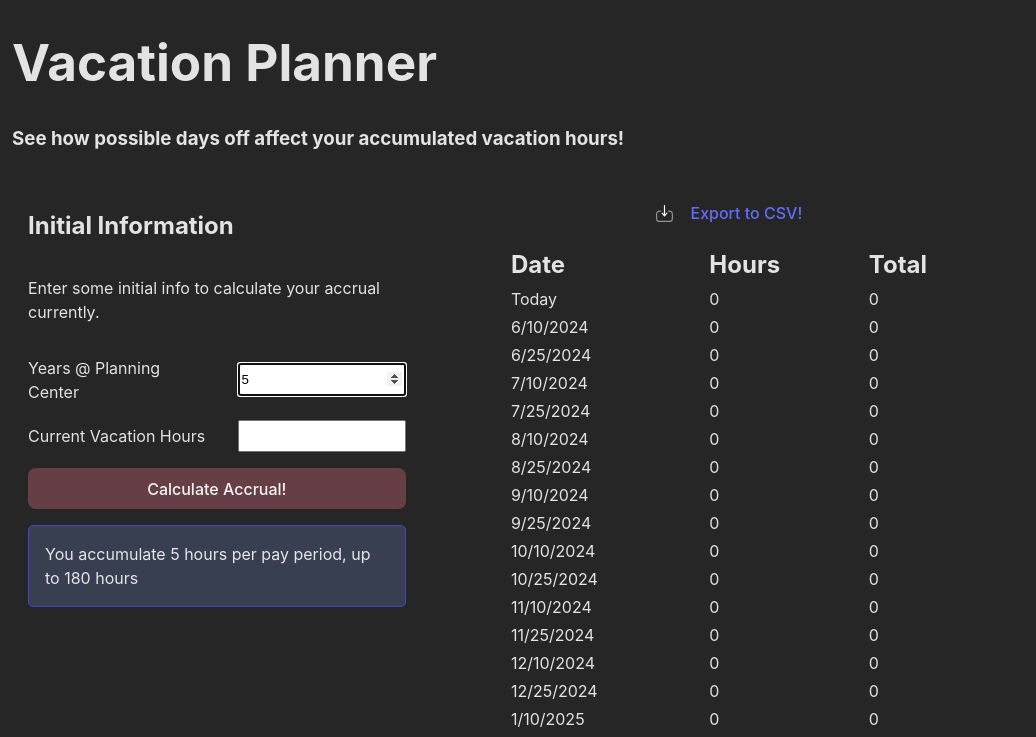
renders correct accumulation and max numbers › populates the table
Type "5" into the number field next to "Current Vacation Hours" at (322, 436), box top-left (238, 420), bottom-right (406, 452)
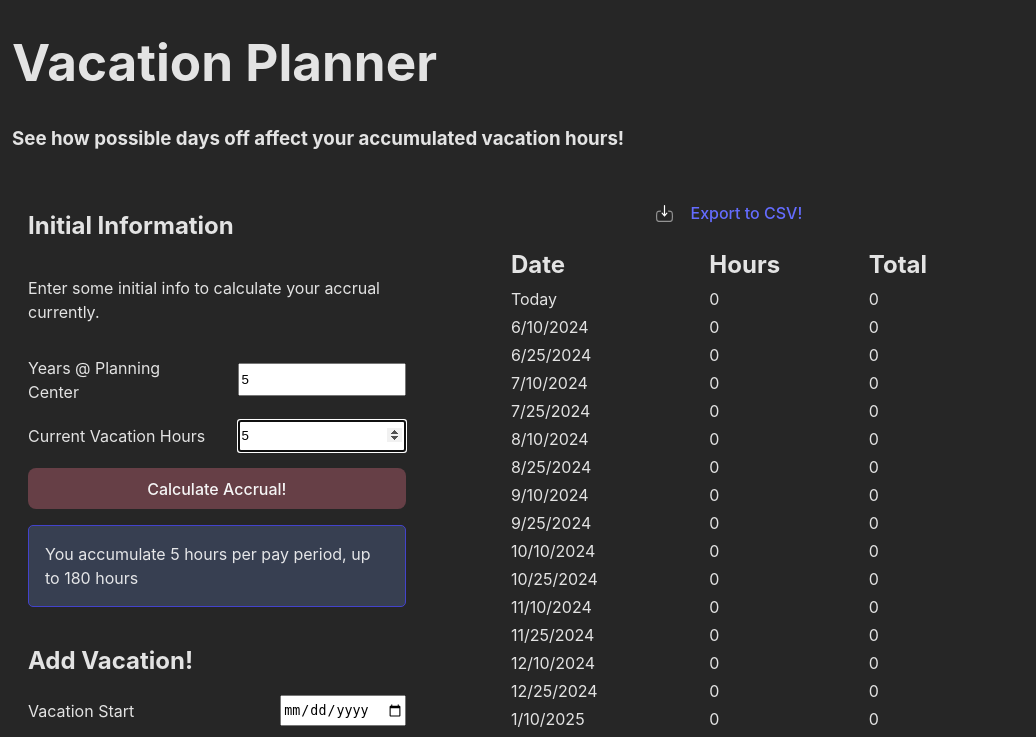
Now the heading "Add Vacation!" is shown, box top-left (28, 646), bottom-right (193, 675)
Click the button "Calculate Accrual!" at (217, 489), box top-left (28, 468), bottom-right (406, 510)
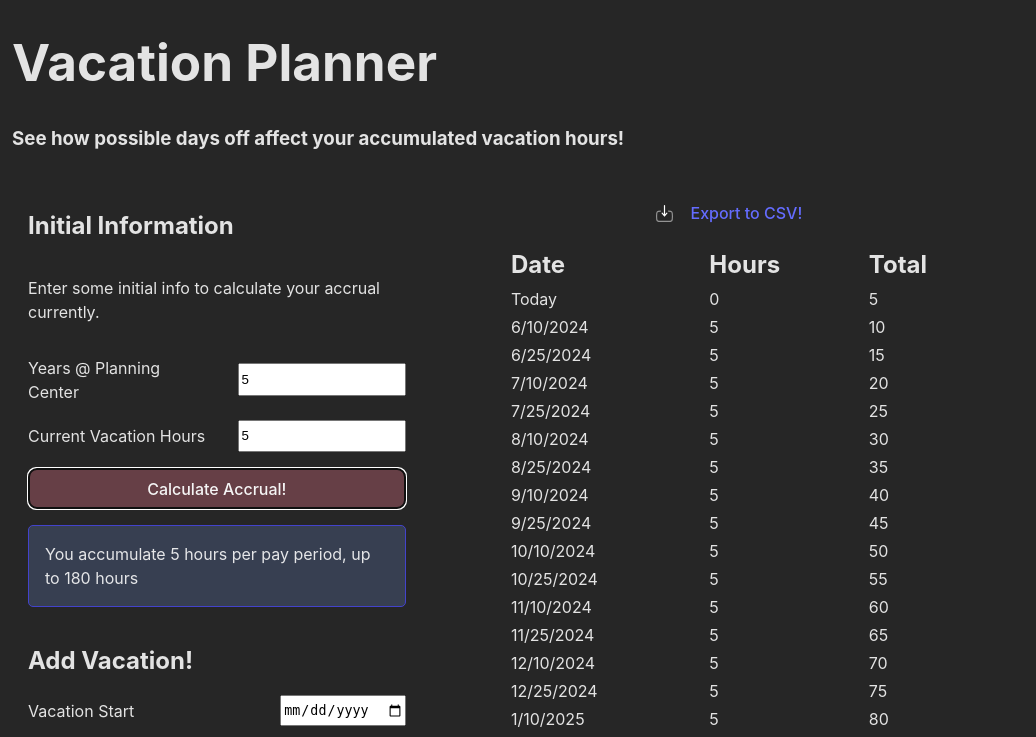
Now the text "10" is shown, box top-left (869, 317), bottom-right (885, 337)
Now the text "15" is shown, box top-left (869, 345), bottom-right (885, 365)
Now the text "20" is shown, box top-left (869, 373), bottom-right (889, 393)
